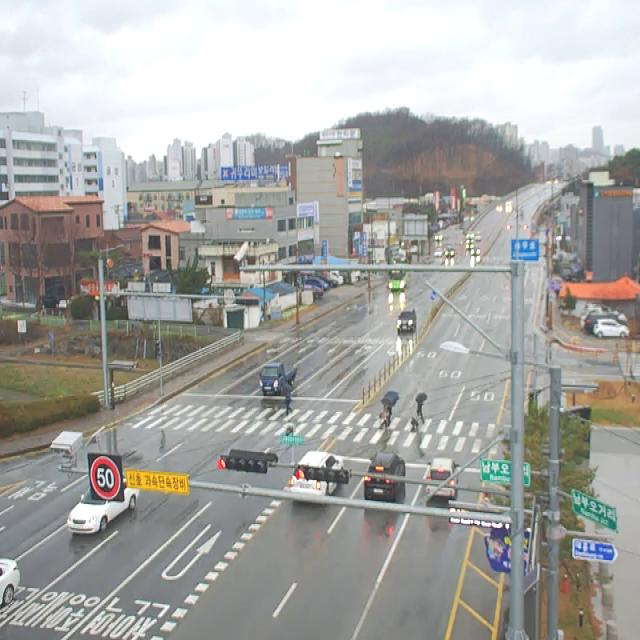Bus: (389, 270, 408, 291)
Car: (67, 478, 140, 534), (290, 452, 344, 496), (363, 452, 406, 498), (426, 458, 460, 498), (581, 305, 629, 328), (0, 557, 20, 607), (585, 310, 627, 332), (594, 319, 630, 339), (397, 309, 417, 334), (445, 248, 455, 258), (471, 246, 480, 255), (475, 231, 482, 242), (434, 249, 443, 257), (435, 234, 443, 241), (466, 243, 474, 249), (467, 233, 474, 239), (466, 238, 474, 243)
Truck: (259, 362, 297, 393)
